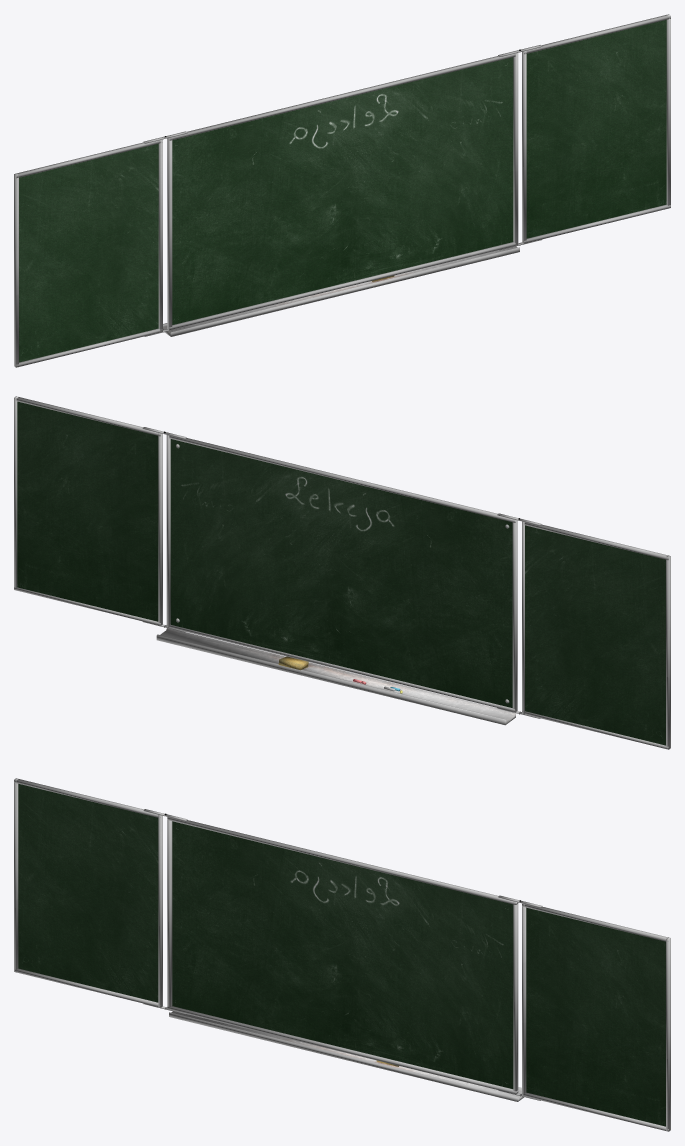
Rendered from chalkboard.gltf.
The picture shows the model from 3 angles, top to bottom: view 1: azimuth 30°, elevation 25°; view 2: azimuth 150°, elevation 25°; view 3: azimuth 330°, elevation 25°; orthographic projection.
Visible parts, largest first — view 1: Object_3, Object_2; view 2: Object_3, Object_2; view 3: Object_3, Object_2.
Part boxes in pixels (x1,y1,x2,y2): Object_3: [14, 14, 670, 367]; Object_2: [163, 246, 519, 336]; Object_3: [14, 396, 670, 749]; Object_2: [156, 628, 515, 725]; Object_3: [14, 778, 670, 1131]; Object_2: [169, 1011, 524, 1101].
Bounding box in the file's own units: 357 × 105 × 10.28.
Materials: 2 (2 with a texture image).
